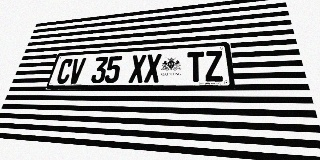3: (90, 57, 109, 83)
5: (104, 56, 122, 83)
C: (55, 58, 74, 84)
T: (187, 51, 205, 82)
V: (67, 58, 86, 84)
X: (128, 54, 146, 83), (144, 54, 162, 83)
Z: (204, 50, 224, 82)
